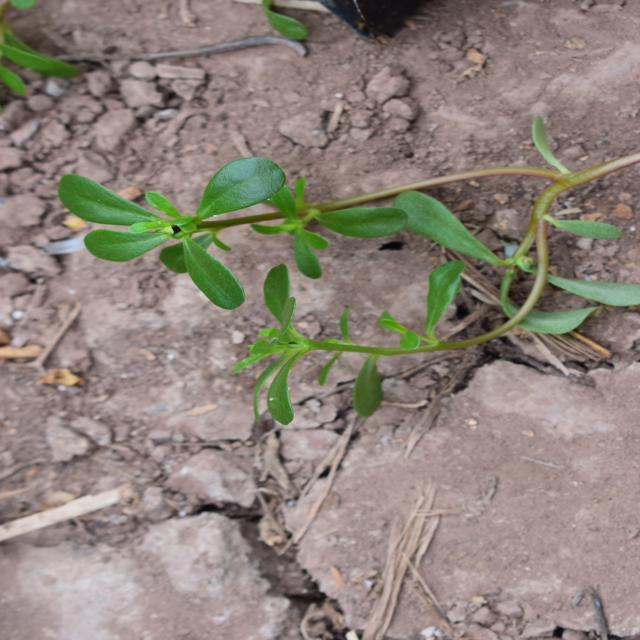purslane: (227, 62, 500, 606)
